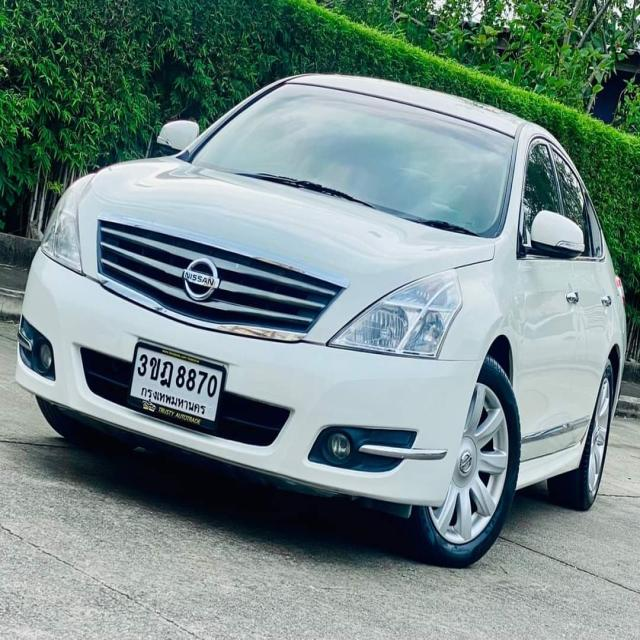license_plate: (123, 332, 234, 430)
